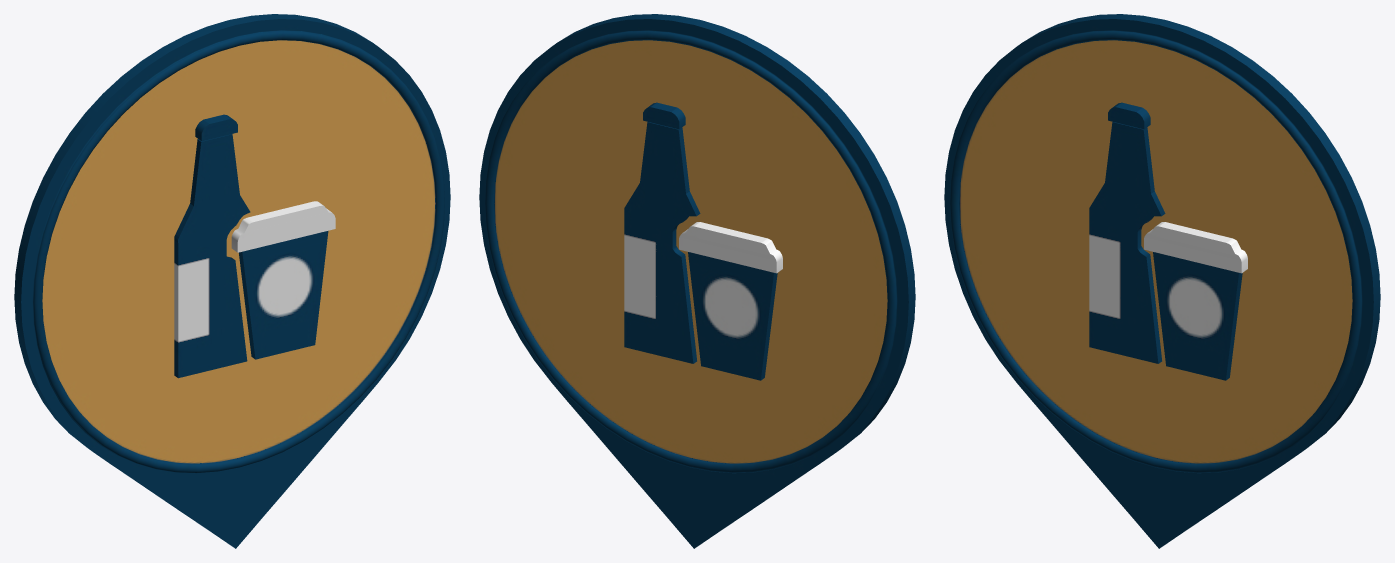
File: Icon_17.obj
3 views of the same model, side by side, from view 1: azimuth 30°, elevation 25°; view 2: azimuth 150°, elevation 25°; view 3: azimuth 330°, elevation 25° (orthographic).
Visible parts, largest first — view 1: Icon__17; view 2: Icon__17; view 3: Icon__17.
Part boxes in pixels (box(x1,y1,x2,y2)): Icon__17: box(14, 14, 450, 548); Icon__17: box(479, 14, 915, 548); Icon__17: box(944, 14, 1380, 548).
Bounding box in the file's own units: 20.03 × 23.35 × 1.92.
1 material, 1 textured.
